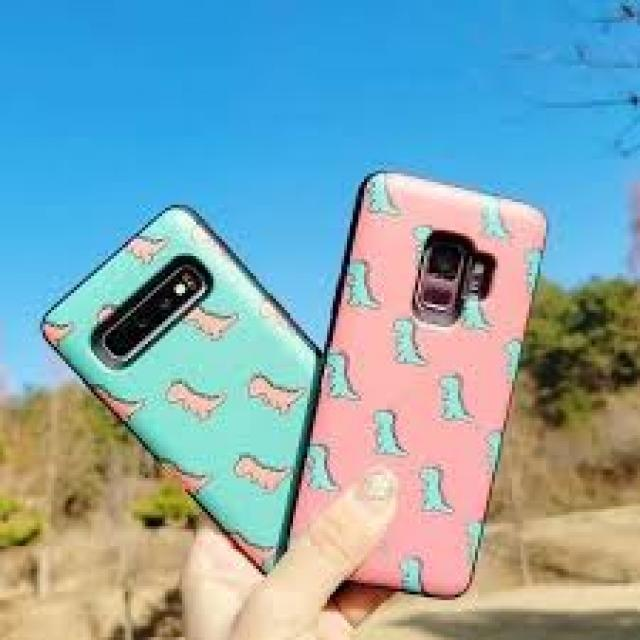phone: (43, 204, 368, 586), (291, 169, 551, 597)
